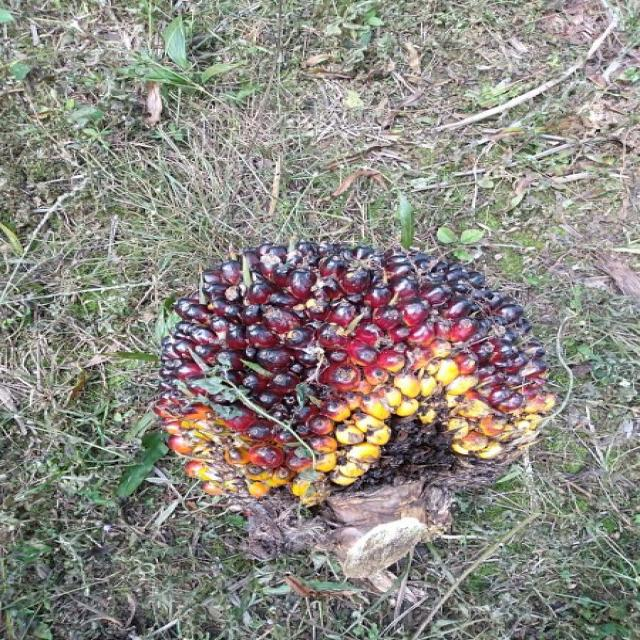fraksi 1: (119, 191, 570, 544)
